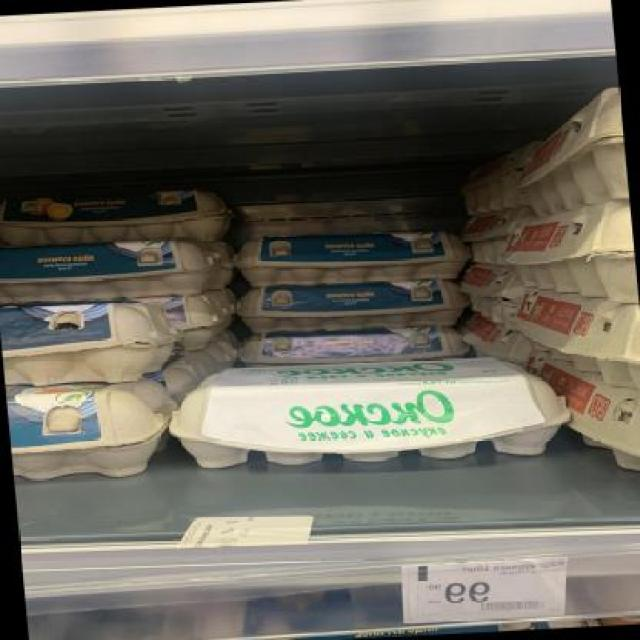Egg: (165, 352, 570, 474), (0, 298, 182, 392), (6, 380, 168, 483), (0, 181, 235, 250), (0, 235, 235, 302), (234, 275, 477, 337), (236, 224, 473, 287), (232, 326, 473, 368)
